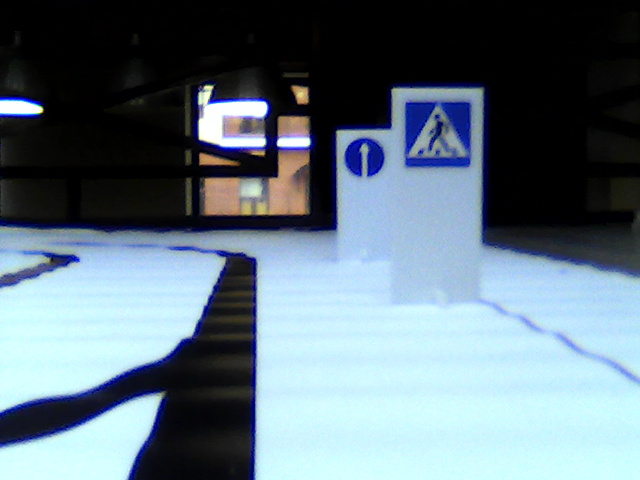forw: (345, 137, 385, 180)
pesh: (403, 101, 470, 169)
